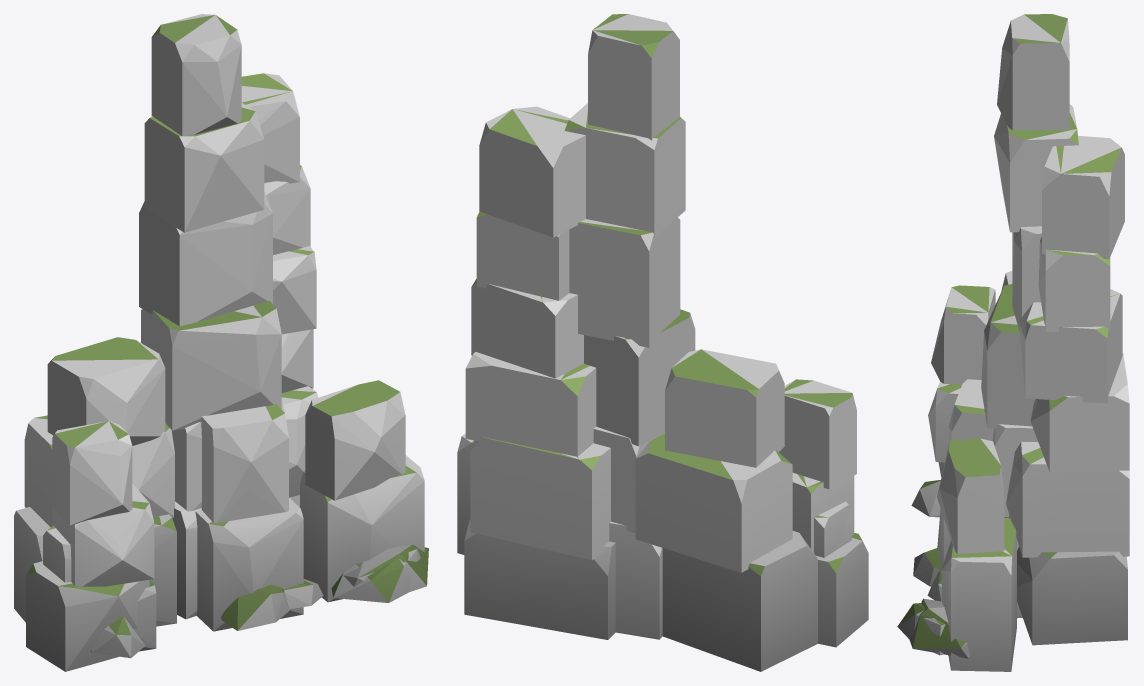
File: rk_crag_1.glb
The picture shows the model from 3 angles, left to right: view 1: azimuth 30°, elevation 25°; view 2: azimuth 150°, elevation 25°; view 3: azimuth 270°, elevation 25°; orthographic projection. The views are drawn at different scales.
Parts seen in each view (by area): view 1: rk_crag_1; view 2: rk_crag_1; view 3: rk_crag_1.
Part boxes in pixels (x1,y1,x2,y2): rk_crag_1: (14, 14, 428, 671); rk_crag_1: (457, 14, 868, 671); rk_crag_1: (897, 14, 1129, 671).
Size of the model in its own units: 61.64 by 88.36 by 33.58.
